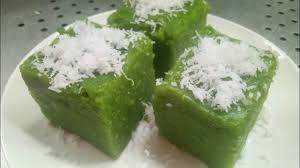kanompiakpoon: (17, 21, 158, 164), (161, 20, 280, 168), (95, 1, 221, 82)
